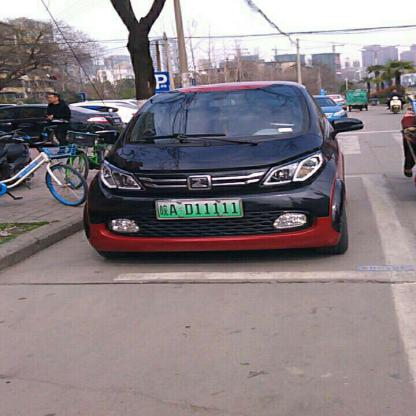lp: (157, 198, 241, 218)
